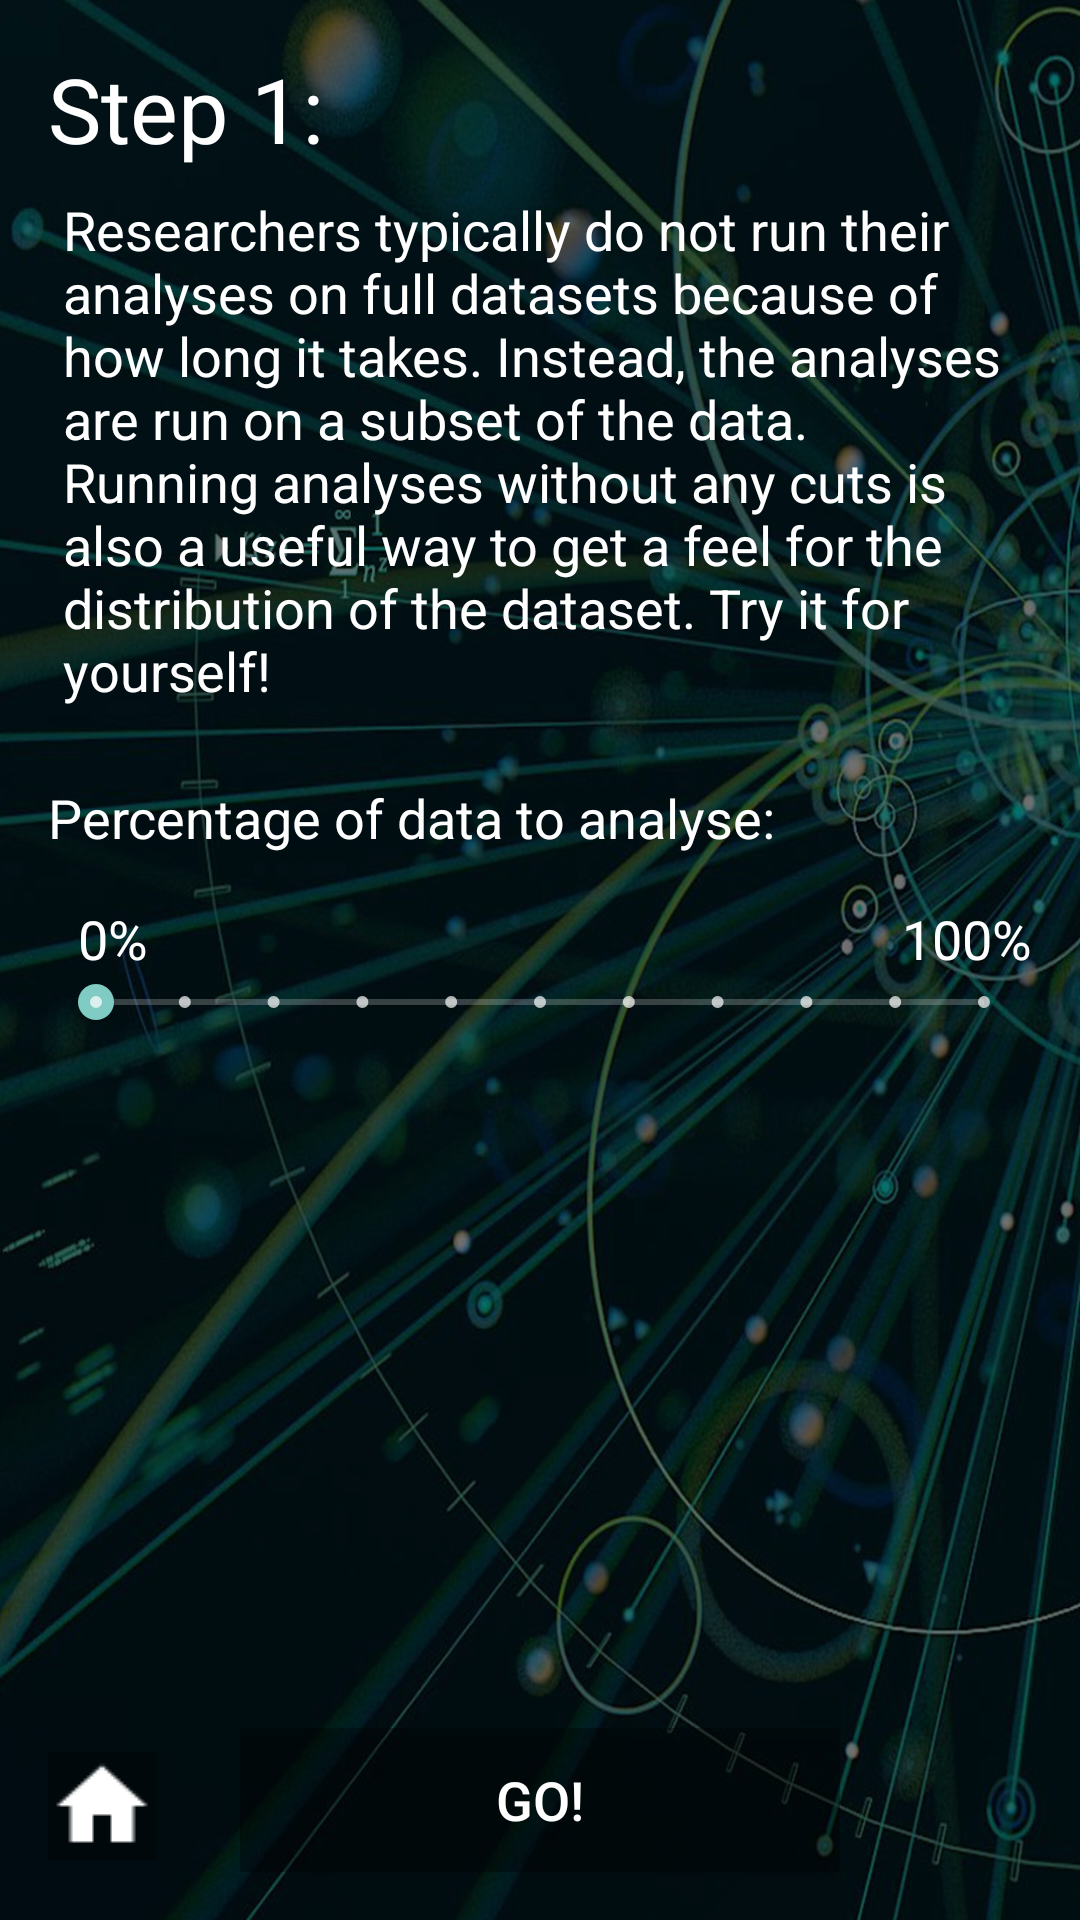

Icon click points for this 1080 x 1920 phone screenshot, format point (x, y):
home: point (102, 1804)
